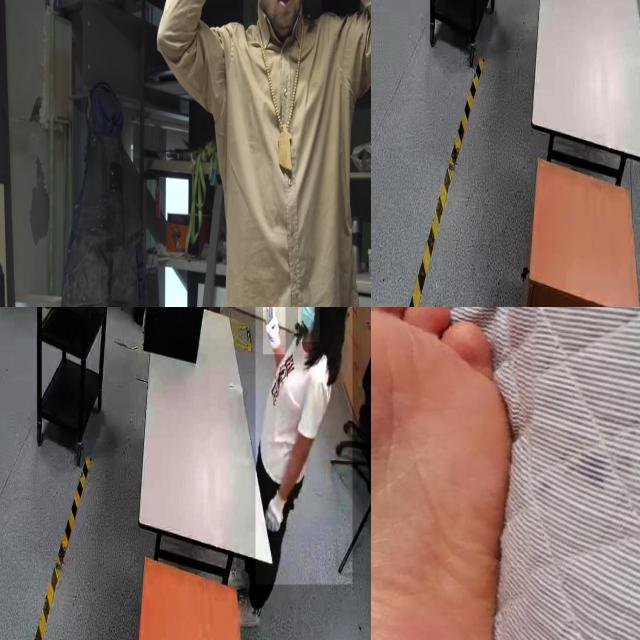Barefoots: (371, 307, 527, 640)
Ear-protection: (239, 0, 317, 42)
face_mask: (298, 307, 319, 342)
hand_glove: (264, 484, 290, 538), (262, 307, 285, 354)
person: (153, 0, 371, 307), (255, 307, 352, 585)
